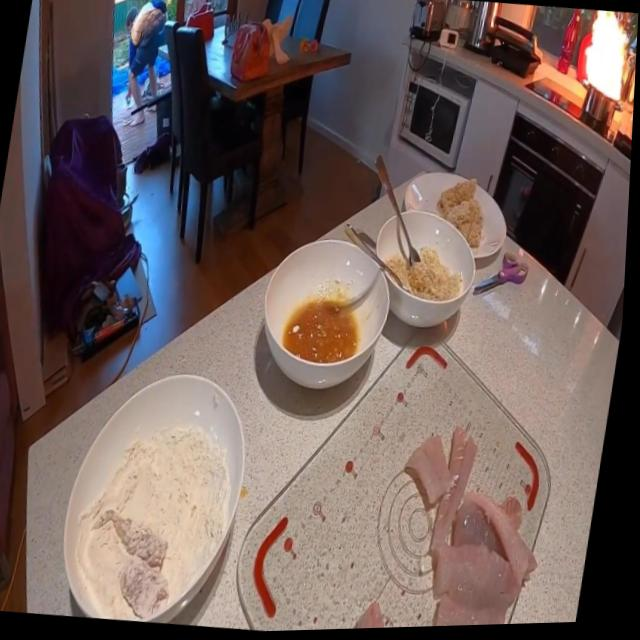fire: (575, 12, 638, 108)
